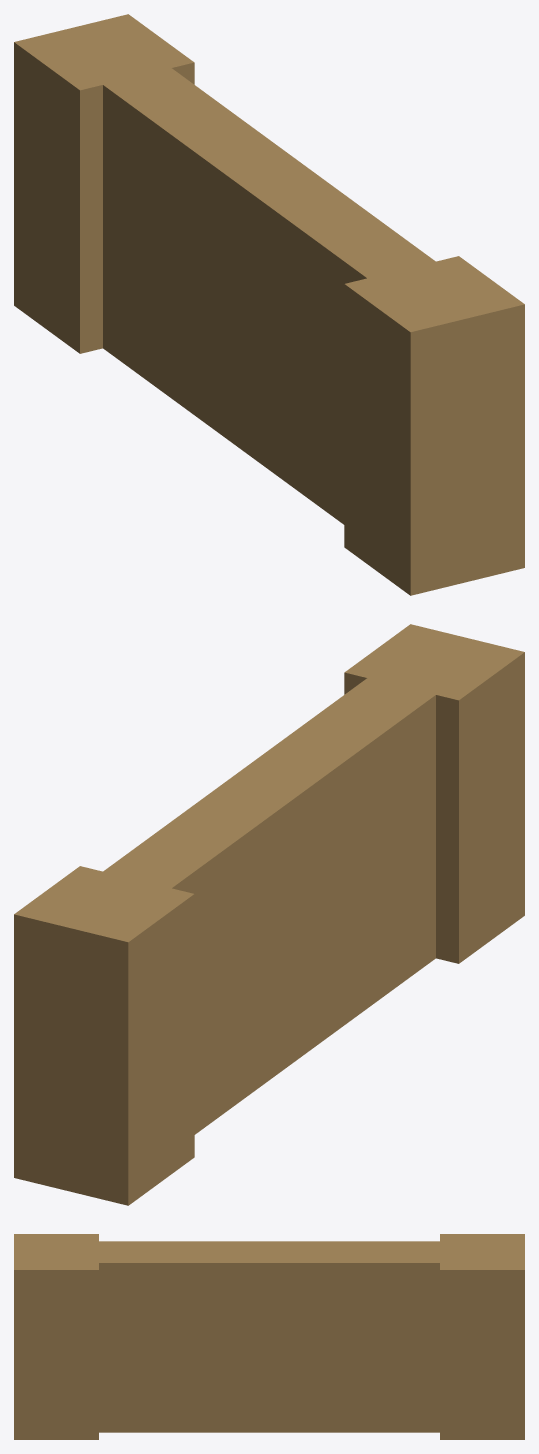
File: wood_tiny_wall_01.glb
3 views of the same model, one above another, from view 1: azimuth 30°, elevation 25°; view 2: azimuth 150°, elevation 25°; view 3: azimuth 270°, elevation 25° (orthographic). The views are drawn at different scales.
Visible parts, largest first — view 1: Mesh1 Wood_Tiny_Wall Model; view 2: Mesh1 Wood_Tiny_Wall Model; view 3: Mesh1 Wood_Tiny_Wall Model.
Boxes of the visible parts, box(x1,y1,x2,y2) form: Mesh1 Wood_Tiny_Wall Model: box(14, 14, 524, 595); Mesh1 Wood_Tiny_Wall Model: box(14, 624, 524, 1205); Mesh1 Wood_Tiny_Wall Model: box(14, 1234, 524, 1439).
Size of the model in its own units: 0.5 by 1.1 by 3.
